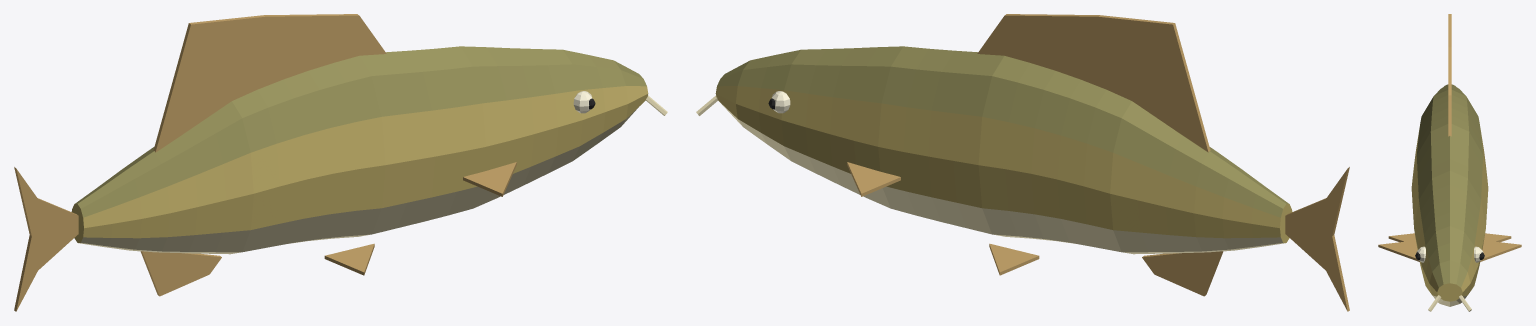
Rendered from karpfen.glb.
3 renders of one model, left to right at view 1: azimuth 30°, elevation 25°; view 2: azimuth 150°, elevation 25°; view 3: azimuth 270°, elevation 25°, orthographic. The views are drawn at different scales.
Visible parts, largest first — view 1: karpfen; view 2: karpfen; view 3: karpfen.
Boxes of the visible parts, x1,y1,x2,y2 form: karpfen: (14, 14, 667, 311); karpfen: (696, 14, 1349, 311); karpfen: (1378, 14, 1521, 311).
Size of the model in its own units: 1 by 0.3955 by 0.2743.
